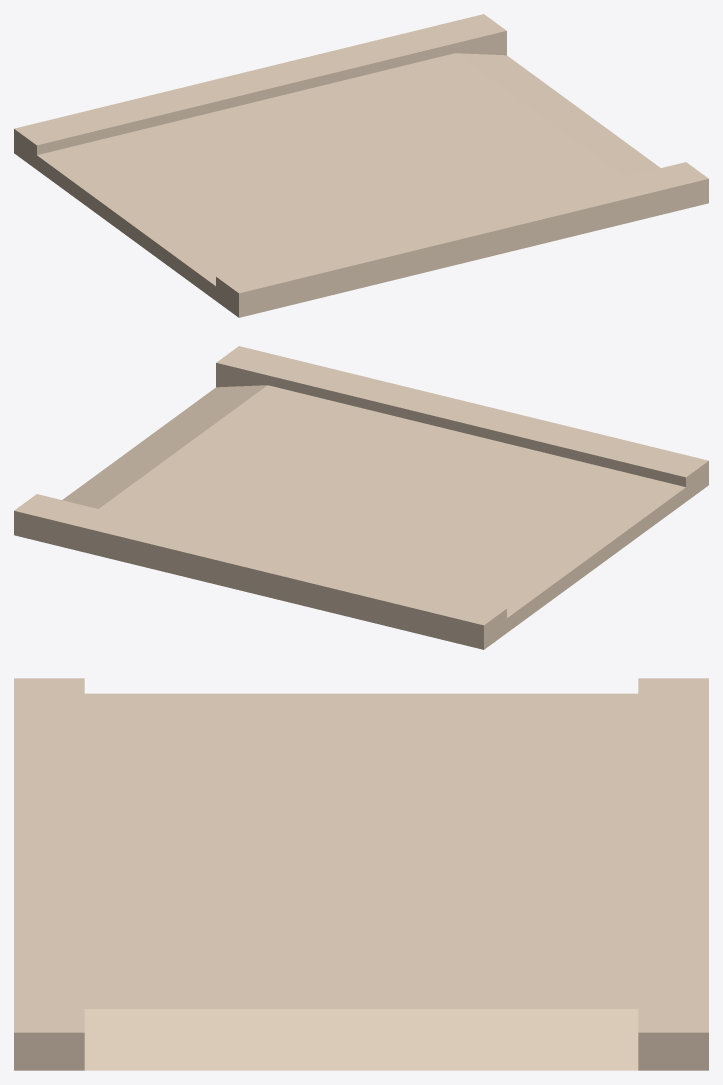
Rendered from bridge.glb.
3 views of the same model, one above another, from view 1: azimuth 30°, elevation 25°; view 2: azimuth 150°, elevation 25°; view 3: azimuth 270°, elevation 25° (orthographic). The views are drawn at different scales.
Visible parts, largest first — view 1: bridge; view 2: bridge; view 3: bridge.
Part boxes in pixels (x1=…): bridge: x1=14, y1=14, x2=708, y2=317; bridge: x1=14, y1=346, x2=708, y2=649; bridge: x1=14, y1=678, x2=708, y2=1070.
Bounding box in the file's own units: 10.02 × 0.5 × 8.31.
